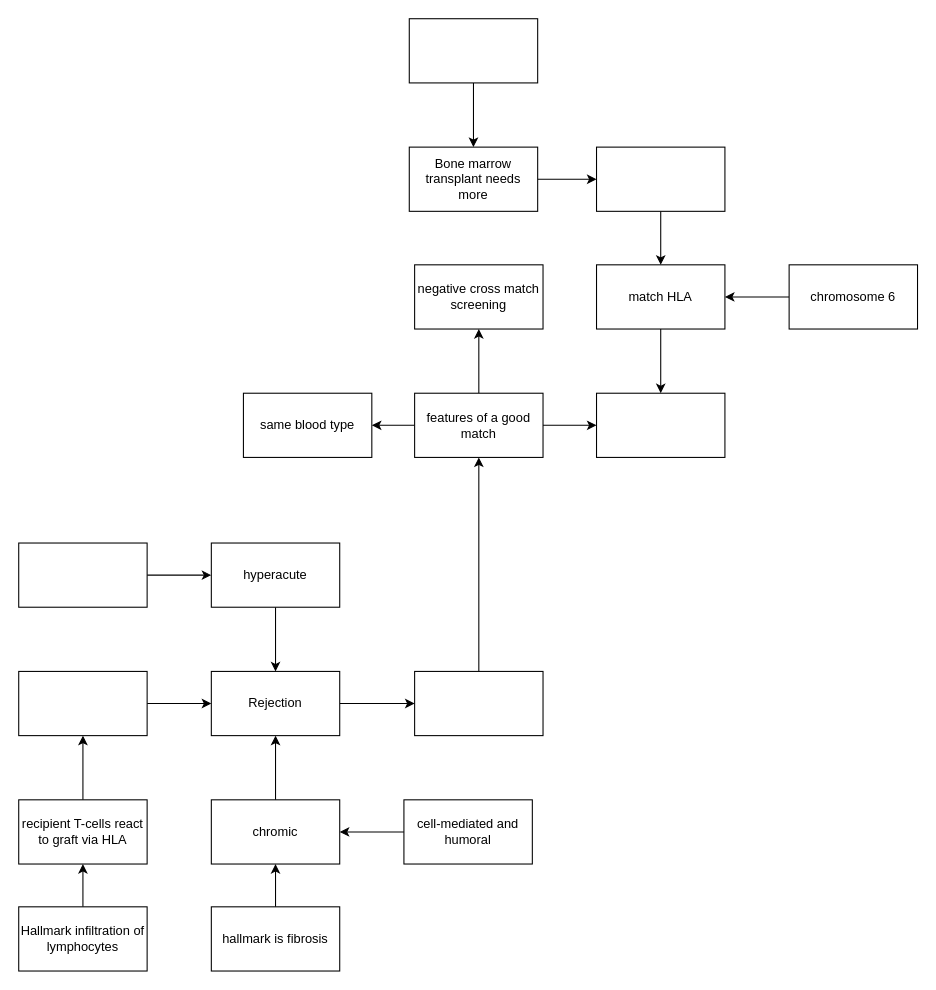
Image size: 936x990. Some labels were removed from this diagram. The shapes that lost their labels are listed below. From the top down, each one's centre as x and y in pixels, then its label:
the point at 473,50: not matching can lead to Graft versus host disease
the point at 660,178: HLA A,b,DR most important for organ transplant
the point at 660,424: same (close) MHC
the point at 82,574: within minutes result of preformed antibodies
the point at 82,703: Acute
the point at 478,703: Transplants
